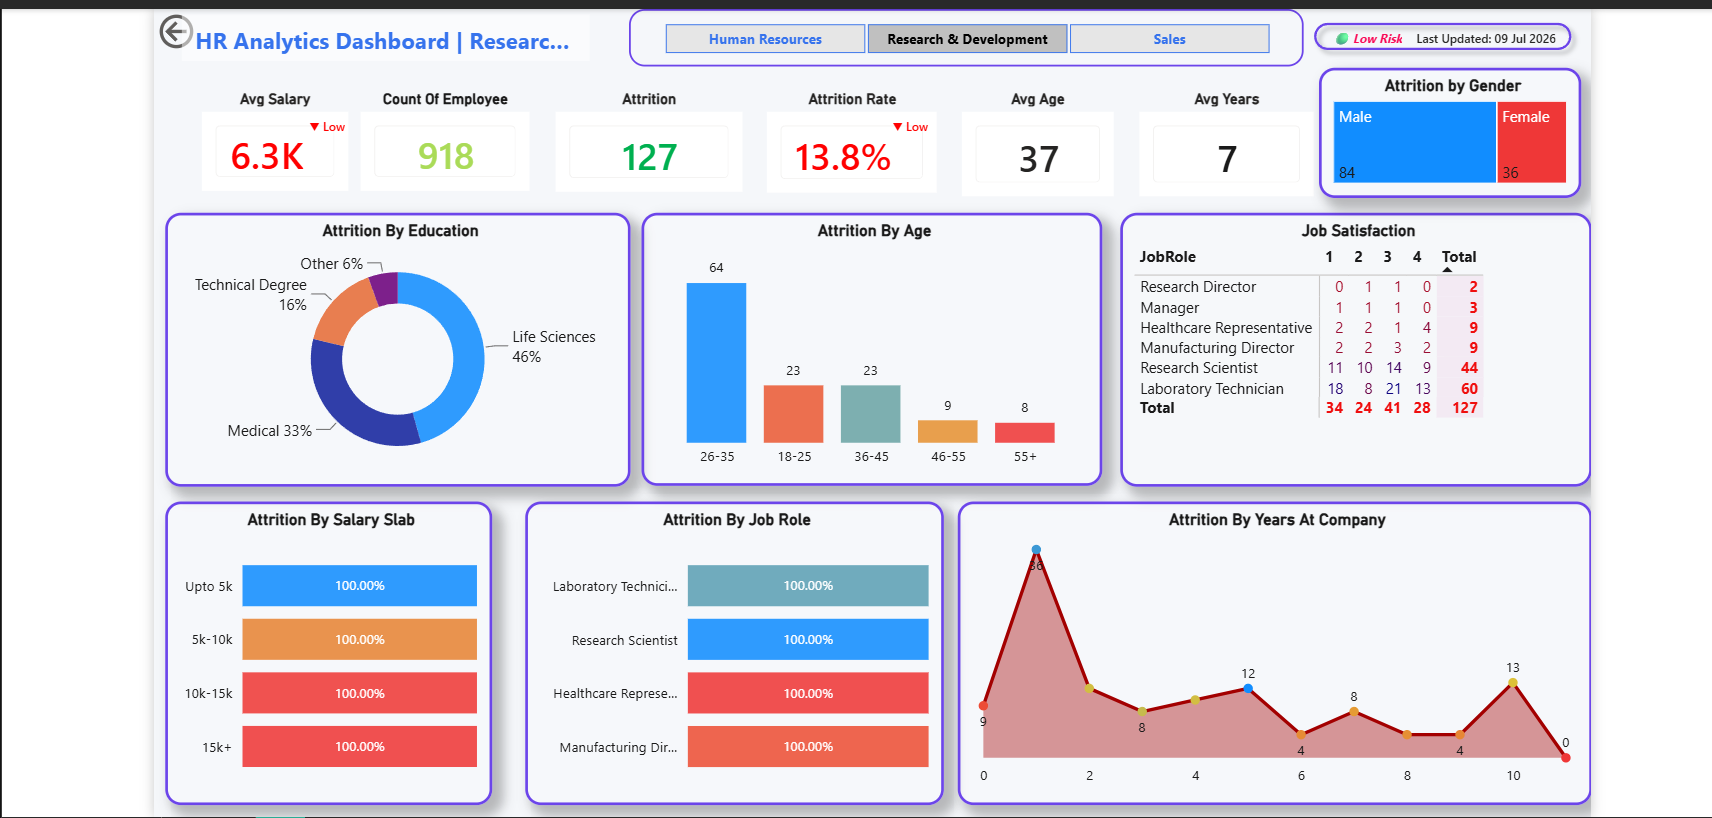

What the dashboard file says about the page in this screenshot:
{"tool":"powerbi","page":{"name":"Page 1","canvas":[1280,720],"ordinal":0},"visuals":[{"type":"cardVisual","title":"Count Of Employee ","fields":{"Data":["CountNonNull(HR_Analytics.EmpID)"]},"box":[179.8,61.7,209.9,108.4],"z":0},{"type":"cardVisual","title":"Attrition","fields":{"Data":["Sum(HR_Analytics.AttritionCount)"]},"box":[358.1,63.1,182.5,107],"z":1000},{"type":"cardVisual","title":"Attrition Rate ","fields":{"Data":["HR_Analytics.AttritionRate"]},"box":[521.4,63.1,203.1,107],"z":2000},{"type":"cardVisual","title":"Avg Age","fields":{"Data":["Avg(HR_Analytics.Age)"]},"box":[709.4,63.1,135.8,107],"z":3000},{"type":"cardVisual","title":"Avg Salary","fields":{"Data":["Avg(HR_Analytics.MonthlyIncome)"]},"box":[15.1,63.1,175.6,107],"z":4000},{"type":"cardVisual","title":"Avg Years ","fields":{"Data":["Avg(HR_Analytics.YearsAtCompany)"]},"box":[832.9,63.1,199,107],"z":5000},{"type":"donutChart","title":"Attrition By Education","fields":{"Category":["HR_Analytics.EducationField"],"Y":["Sum(HR_Analytics.AttritionCount)"]},"box":[9.6,181.1,414.4,244.3],"z":6000},{"type":"pivotTable","title":"Job Satisfaction ","fields":{"Rows":["HR_Analytics.JobRole"],"Values":["Sum(HR_Analytics.AttritionCount)"],"Columns":["HR_Analytics.JobSatisfaction"]},"box":[860.4,181.1,419.9,244.3],"z":7000},{"type":"columnChart","title":"Attrition By Age","fields":{"Category":["HR_Analytics.AgeGroup"],"Y":["Sum(HR_Analytics.AttritionCount)"]},"box":[434.9,181.4,410.5,244.2],"z":8000},{"type":"hundredPercentStackedBarChart","title":"Attrition By Salary Slab","fields":{"Category":["HR_Analytics.SalarySlab"],"Y":["Sum(HR_Analytics.AttritionCount)"]},"box":[9.6,439.1,290.9,270.3],"z":9000},{"type":"hundredPercentStackedBarChart","title":"Attrition By Job Role","fields":{"Category":["HR_Analytics.JobRole"],"Y":["Sum(HR_Analytics.AttritionCount)"]},"box":[314.2,439.1,373.2,270.3],"z":10000},{"type":"areaChart","title":"Attrition By Years At Company","fields":{"Category":["HR_Analytics.YearsAtCompany"],"Y":["Sum(HR_Analytics.AttritionCount)"]},"box":[724.5,439.1,555.7,270.3],"z":11000},{"type":"treemap","title":"Attrition by Age","fields":{"Group":["HR_Analytics.Gender"],"Values":["Sum(HR_Analytics.AttritionCount)"]},"box":[1082.7,0,188,170.2],"z":12000},{"type":"slicer","fields":{"Values":["HR_Analytics.Department"]},"box":[399.3,0,671,48],"z":13000},{"type":"textbox","box":[9.6,0,380.1,48],"z":14000}]}

Visuals, with their boxes in screenshot pixels (x1, y1, x2, y2):
"Count Of Employee " cardVisual: x1=353, y1=73, x2=587, y2=195
"Attrition" cardVisual: x1=552, y1=75, x2=756, y2=195
"Attrition Rate " cardVisual: x1=734, y1=75, x2=961, y2=195
"Avg Age" cardVisual: x1=944, y1=75, x2=1096, y2=195
"Avg Salary" cardVisual: x1=168, y1=75, x2=365, y2=195
"Avg Years " cardVisual: x1=1082, y1=75, x2=1305, y2=195
"Attrition By Education" donutChart: x1=162, y1=207, x2=625, y2=480
"Job Satisfaction " pivotTable: x1=1113, y1=207, x2=1582, y2=480
"Attrition By Age" columnChart: x1=638, y1=207, x2=1096, y2=480
"Attrition By Salary Slab" hundredPercentStackedBarChart: x1=162, y1=495, x2=487, y2=797
"Attrition By Job Role" hundredPercentStackedBarChart: x1=503, y1=495, x2=920, y2=797
"Attrition By Years At Company" areaChart: x1=961, y1=495, x2=1582, y2=797
"Attrition by Age" treemap: x1=1361, y1=4, x2=1572, y2=195
slicer - HR_Analytics.Department: x1=598, y1=4, x2=1348, y2=58
textbox: x1=162, y1=4, x2=587, y2=58
